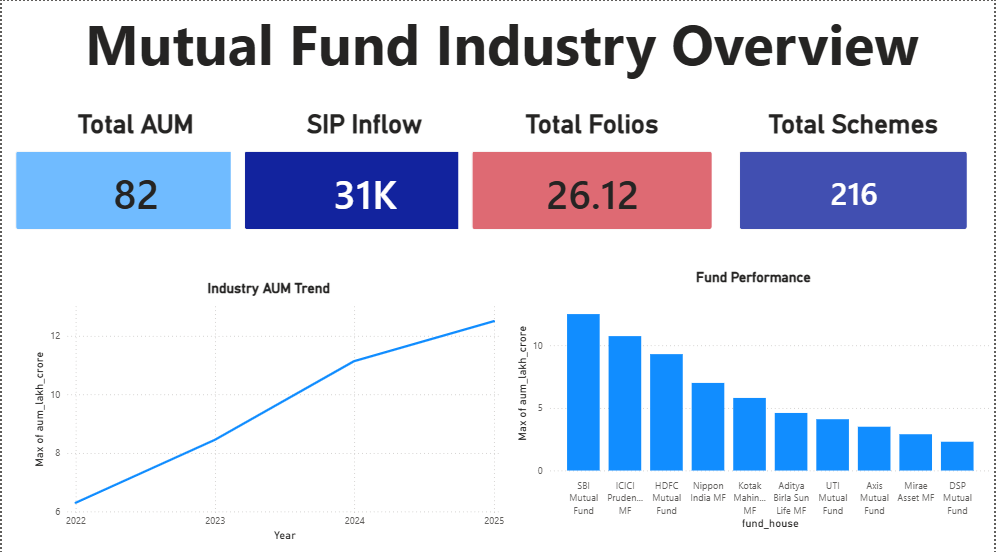

The dashboard page shown, as its layout file describes it:
{"tool":"powerbi","page":{"name":"Industry Overview","canvas":[1280,720],"ordinal":0},"visuals":[{"type":"textbox","box":[9.5,0,1270.8,139.3],"z":0},{"type":"cardVisual","title":"Total AUM","fields":{"Data":["Count(03_aum_by_fund_house.aum_lakh_crore)"]},"box":[0,139.3,345,174.1],"z":1000},{"type":"cardVisual","title":"SIP Inflow","fields":{"Data":["Max(04_monthly_sip_inflows.sip_inflow_crore)"]},"box":[294.4,139.3,345,174.1],"z":2000},{"type":"cardVisual","title":"Total Folios","fields":{"Data":["Max(06_industry_folio_count.total_folios_crore)"]},"box":[588.7,139.3,345,174.1],"z":3000},{"type":"cardVisual","title":"Total Schemes","fields":{"Data":["Max(03_aum_by_fund_house.num_schemes)"]},"box":[933.7,139.3,329.2,174.1],"z":4000},{"type":"lineChart","title":"Industry AUM Trend","fields":{"Category":["03_aum_by_fund_house.date.Variation.Date Hierarchy.Year","03_aum_by_fund_house.date.Variation.Date Hierarchy.Quarter","03_aum_by_fund_house.date.Variation.Date Hierarchy.Month","03_aum_by_fund_house.date.Variation.Date Hierarchy.Day"],"Y":["Max(03_aum_by_fund_house.aum_lakh_crore)"]},"box":[35.7,359.5,617.5,343.1],"z":5000},{"type":"lineClusteredColumnComboChart","title":"Fund Performance","fields":{"Category":["03_aum_by_fund_house.fund_house"],"Y":["Max(03_aum_by_fund_house.aum_lakh_crore)"]},"box":[657.3,345.8,623,341.7],"z":6000}]}

Visuals, with their boxes in screenshot pixels (x1, y1, x2, y2), scaled from the page's 1280x720 canvas onto the 997x552 screenshot:
textbox: x1=7 y1=0 x2=996 y2=107
"Total AUM" cardVisual: x1=0 y1=107 x2=269 y2=240
"SIP Inflow" cardVisual: x1=229 y1=107 x2=498 y2=240
"Total Folios" cardVisual: x1=459 y1=107 x2=727 y2=240
"Total Schemes" cardVisual: x1=727 y1=107 x2=984 y2=240
"Industry AUM Trend" lineChart: x1=28 y1=276 x2=509 y2=539
"Fund Performance" lineClusteredColumnComboChart: x1=512 y1=265 x2=996 y2=527
